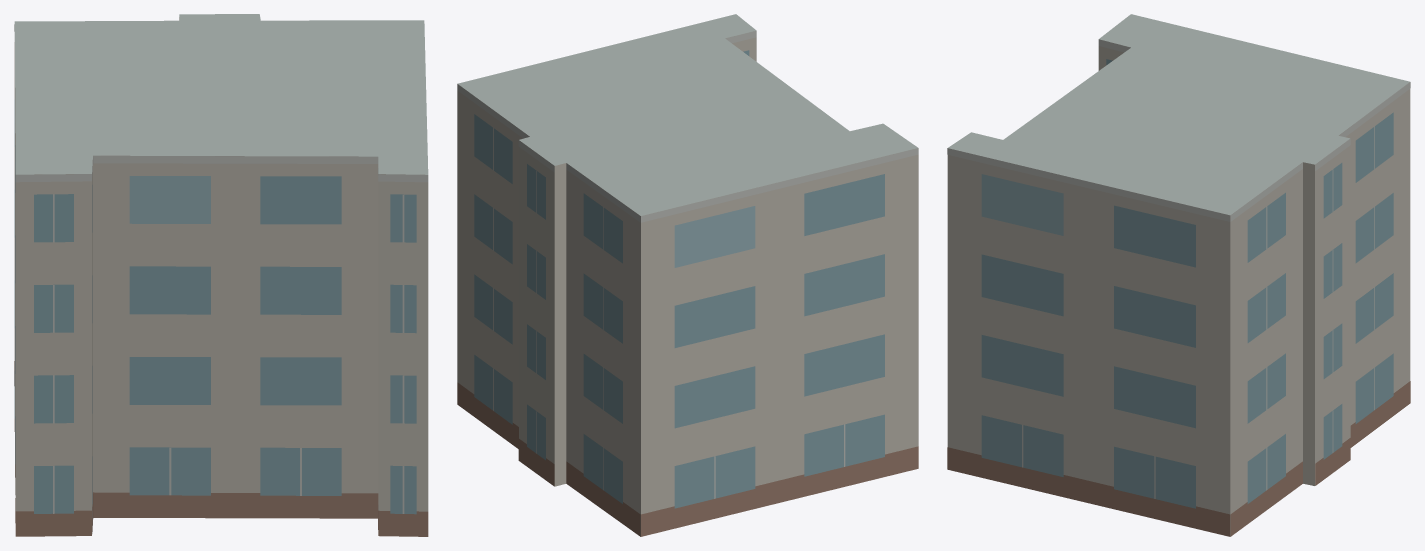
File: survey-upis-32705777.glb
The picture shows the model from 3 angles, left to right: view 1: azimuth 30°, elevation 25°; view 2: azimuth 150°, elevation 25°; view 3: azimuth 270°, elevation 25°; orthographic projection. The views are drawn at different scales.
Visible parts, largest first — view 1: survey-upis-32705777.tmp; view 2: survey-upis-32705777.tmp; view 3: survey-upis-32705777.tmp.
Part boxes in pixels (x1,y1,x2,y2): survey-upis-32705777.tmp: (14,14,428,536); survey-upis-32705777.tmp: (457,14,918,536); survey-upis-32705777.tmp: (947,14,1410,536).
Size of the model in its own units: 15.72 by 11.7 by 15.28.
